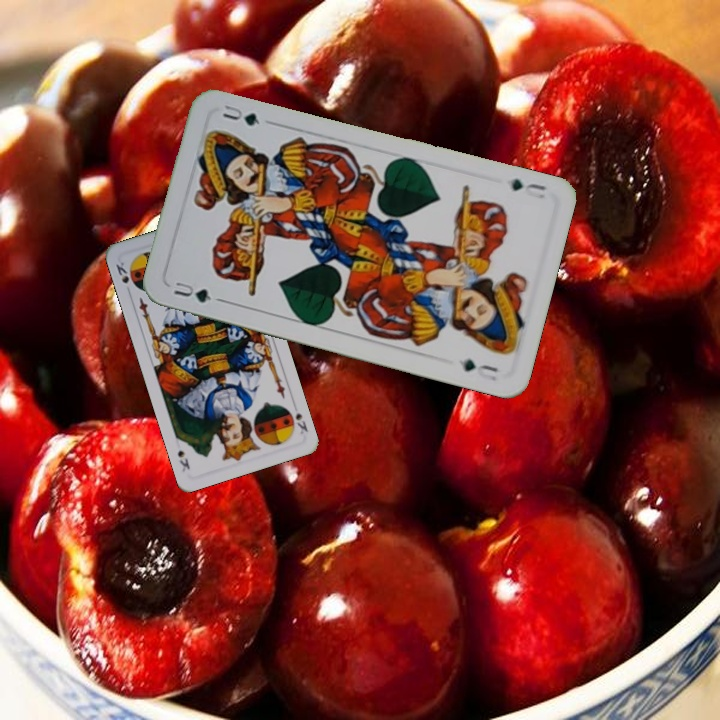GU: (170, 278, 224, 306), (507, 175, 550, 201)
SK: (289, 400, 311, 436), (112, 258, 132, 286)
